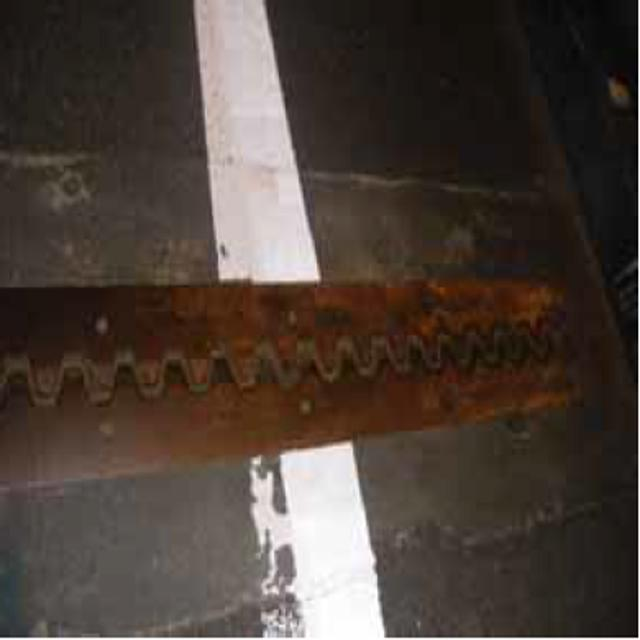corrosion: (6, 254, 618, 486)
